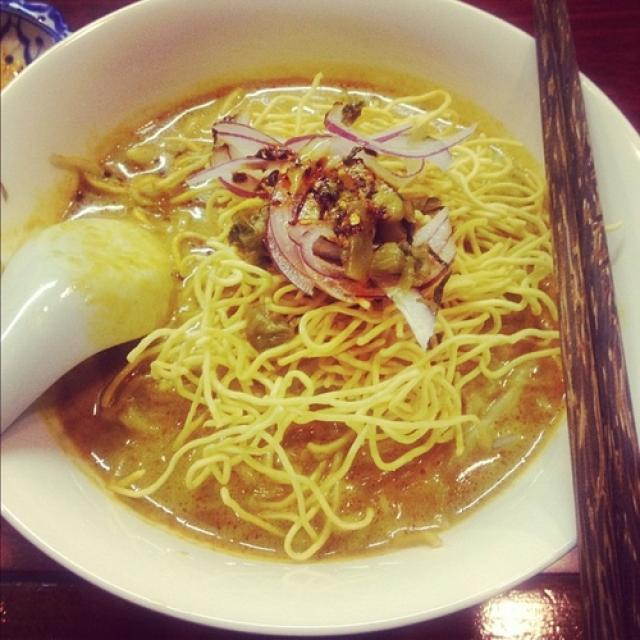面条主食: (29, 28, 598, 597)
